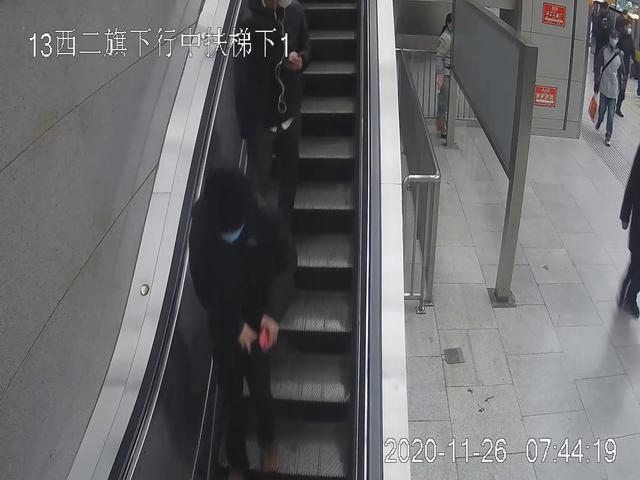person: (190, 168, 295, 480), (588, 28, 626, 145)
